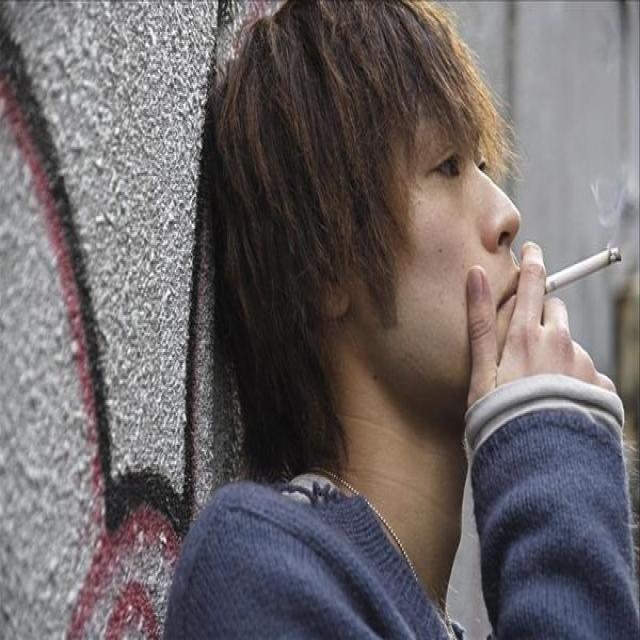smoking: (537, 246, 622, 298)
